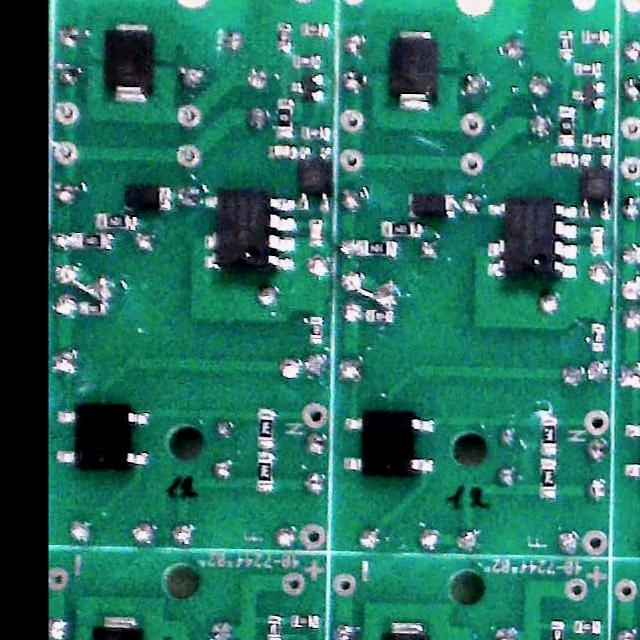chip-capacitor: (590, 226, 604, 254), (551, 152, 577, 165), (310, 218, 322, 244), (270, 144, 293, 155)
chip-resistor: (359, 238, 398, 255), (559, 105, 576, 143), (540, 457, 556, 496), (540, 417, 556, 454), (382, 220, 417, 236), (278, 98, 292, 136), (98, 212, 130, 228), (75, 232, 108, 247), (259, 409, 273, 443), (259, 451, 272, 487), (559, 29, 573, 59), (582, 29, 610, 43), (574, 61, 602, 75), (591, 322, 605, 350), (267, 614, 281, 640), (575, 618, 601, 632), (583, 133, 610, 146), (278, 23, 291, 50), (293, 54, 320, 67), (367, 308, 393, 321), (292, 612, 318, 625), (302, 126, 330, 138), (302, 22, 328, 34), (80, 301, 104, 313), (551, 618, 564, 640), (311, 316, 322, 340)
diode: (389, 30, 440, 111), (105, 23, 153, 104), (124, 185, 172, 209), (408, 192, 454, 217)
ic: (488, 195, 580, 278), (205, 189, 296, 271), (56, 403, 151, 470), (345, 409, 435, 476), (297, 145, 331, 211), (580, 151, 612, 218)
transistor: (289, 72, 324, 100), (572, 80, 605, 108)
